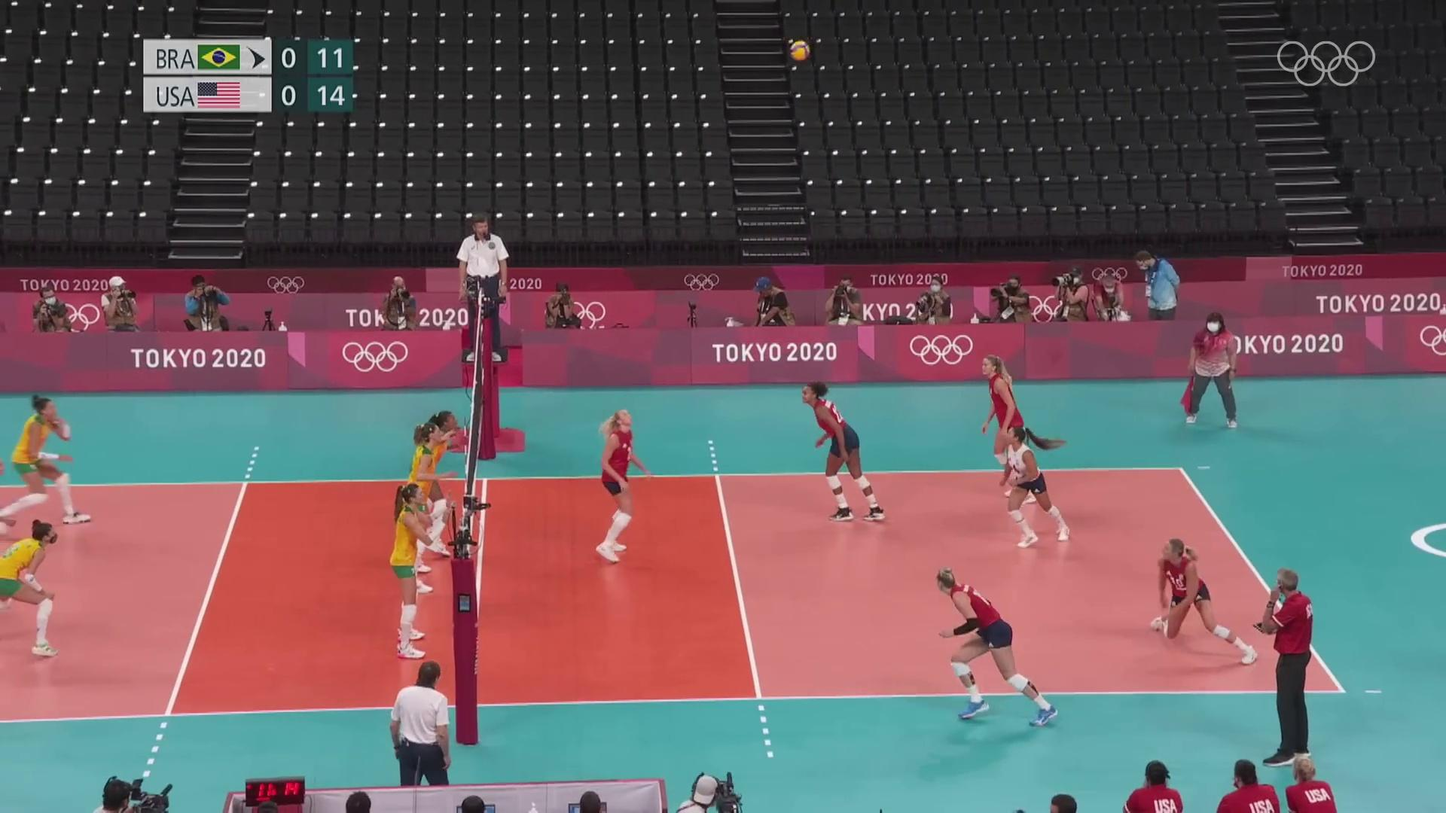player: (927, 567, 1060, 723), (1148, 537, 1255, 664), (798, 383, 888, 522), (0, 393, 89, 527), (977, 356, 1046, 504), (998, 424, 1070, 546), (0, 522, 63, 660), (390, 481, 437, 665), (595, 407, 649, 562), (403, 422, 445, 596), (414, 410, 463, 556)
refree: (387, 660, 456, 794), (457, 217, 512, 358), (1182, 311, 1242, 428)
